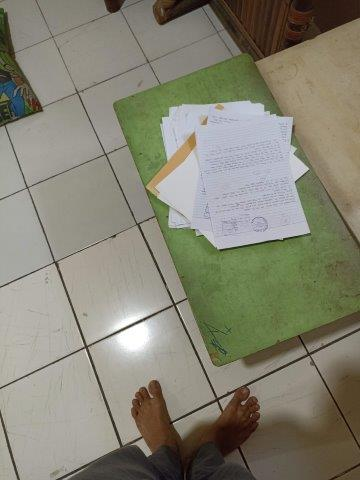kertas: (146, 100, 311, 248)
